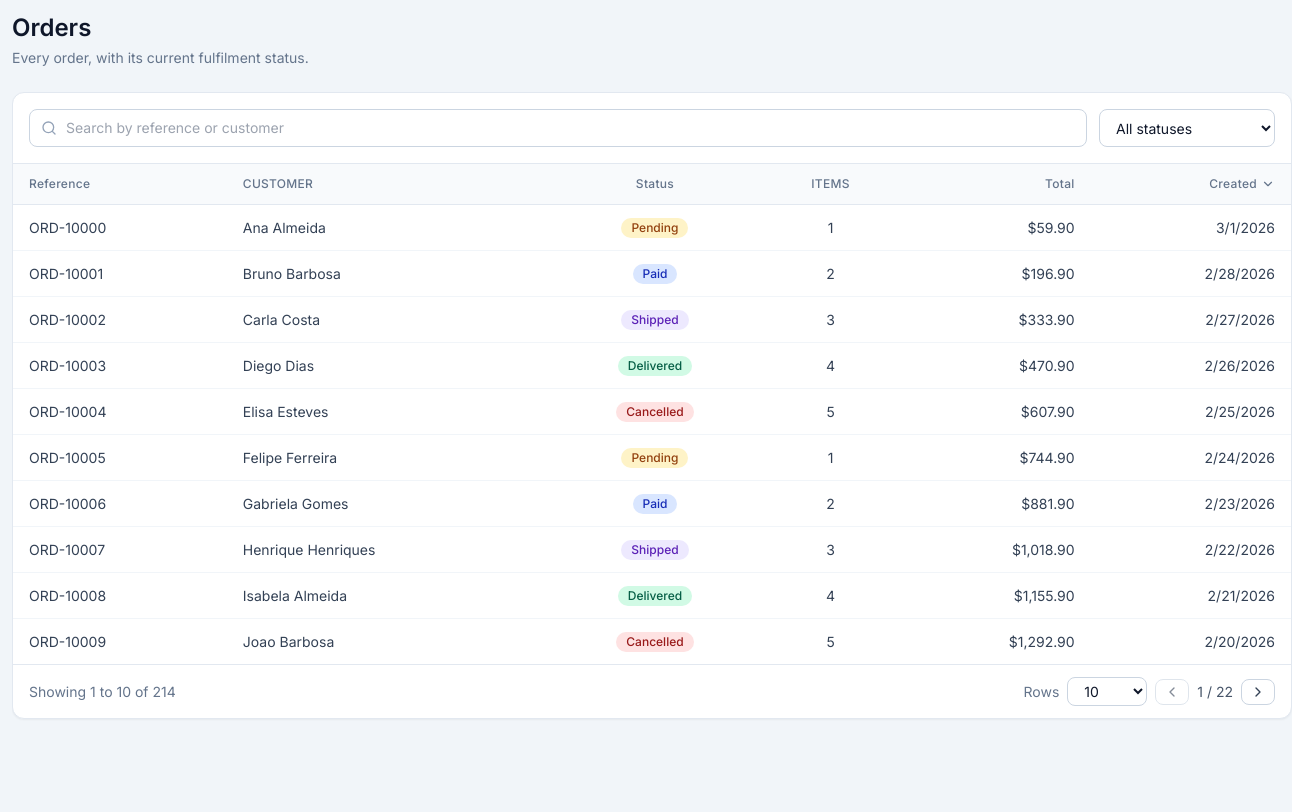
Test: OrdersPage › moves to the next page
What coordinates should you click on to do the following:
click the button named "Next page"
I would click on:
 (1258, 692)
Its box is 1241,678 -> 1275,704.
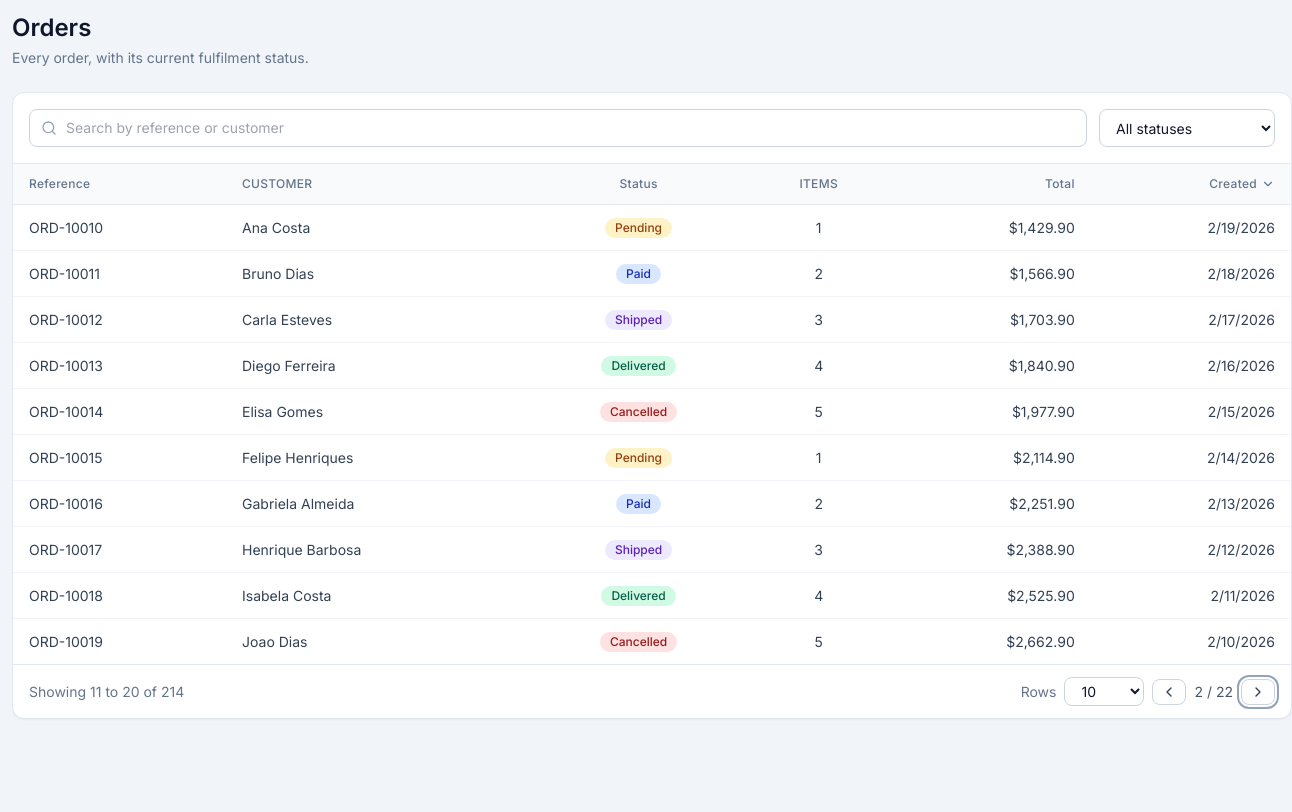
Check: the text "Showing 11 to 20 of 214" is shown, box 29,682 -> 184,702
